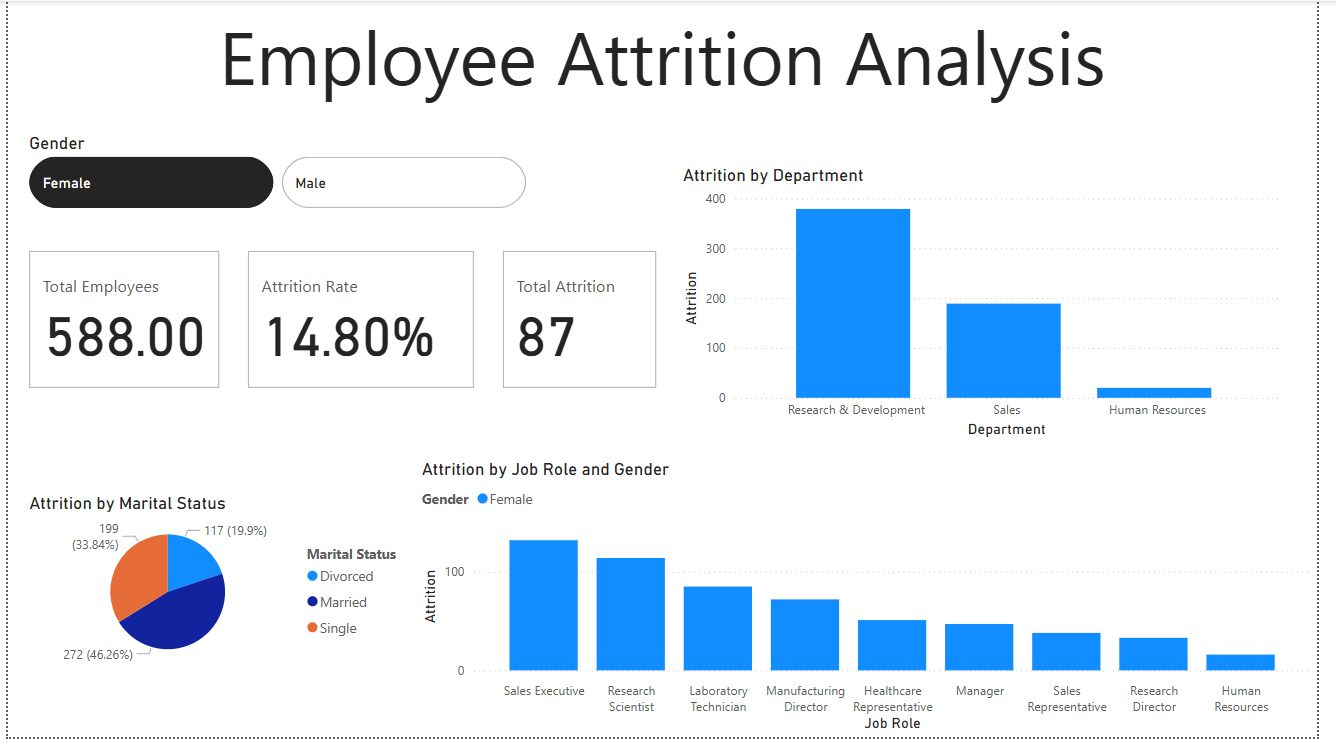

The page's visual inventory and layout, read from the dashboard file:
{"tool":"powerbi","page":{"name":"Employee Attrition Overview – IBM HR Analytics","canvas":[1280,720],"ordinal":0},"visuals":[{"type":"columnChart","title":"Attrition by Department","fields":{"Category":["WA_Fn-UseC_-HR-Employee-Attrition.Department"],"Y":["CountNonNull(WA_Fn-UseC_-HR-Employee-Attrition.Attrition)"]},"box":[656,160,592,272],"z":0},{"type":"cardVisual","fields":{"Data":["WA_Fn-UseC_-HR-Employee-Attrition.Total Attrition"]},"box":[479.5,240,160.5,144],"z":0,"group":"g4"},{"type":"cardVisual","fields":{"Data":["WA_Fn-UseC_-HR-Employee-Attrition.Attrition Rate"]},"box":[229.9,240,231.8,144],"z":1000,"group":"g4"},{"type":"columnChart","title":"Attrition by Job Role and Gender","fields":{"Category":["WA_Fn-UseC_-HR-Employee-Attrition.JobRole"],"Y":["CountNonNull(WA_Fn-UseC_-HR-Employee-Attrition.Attrition)"],"Series":["WA_Fn-UseC_-HR-Employee-Attrition.Gender"]},"box":[416,448,864,272],"z":1000},{"type":"cardVisual","fields":{"Data":["WA_Fn-UseC_-HR-Employee-Attrition.Total Employees"]},"box":[16,240,196.1,144],"z":2000,"group":"g4"},{"type":"pieChart","title":"Attrition by Marital Status","fields":{"Y":["CountNonNull(WA_Fn-UseC_-HR-Employee-Attrition.Attrition)"],"Series":["WA_Fn-UseC_-HR-Employee-Attrition.MaritalStatus"]},"box":[16,544,368,176],"z":2000},{"type":"group","id":"g1","title":"Group 1","box":[16,240,624,144],"z":3000},{"type":"group","id":"g2","title":"Group 2","box":[16,240,624,144],"z":3001,"group":"g1"},{"type":"group","id":"g3","title":"Group 3","box":[16,240,624,144],"z":3001,"group":"g2"},{"type":"group","id":"g4","title":"Group 4","box":[16,240,624,144],"z":3001,"group":"g3"},{"type":"textbox","box":[0,0,1280,112],"z":4000},{"type":"advancedSlicerVisual","fields":{"Values":["WA_Fn-UseC_-HR-Employee-Attrition.Gender"]},"box":[16,128,496,80],"z":5000}]}

Visuals, with their boxes in screenshot pixels (x1, y1, x2, y2), scaled from the page's 1280x720 canvas onto the 1336x745 screenshot:
"Attrition by Department" columnChart: 685,166,1303,447
cardVisual - WA_Fn-UseC_-HR-Employee-Attrition.Total Attrition: 500,248,668,397
cardVisual - WA_Fn-UseC_-HR-Employee-Attrition.Attrition Rate: 240,248,482,397
"Attrition by Job Role and Gender" columnChart: 434,464,1335,744
cardVisual - WA_Fn-UseC_-HR-Employee-Attrition.Total Employees: 17,248,221,397
"Attrition by Marital Status" pieChart: 17,563,401,744
"Group 1" group: 17,248,668,397
"Group 2" group: 17,248,668,397
"Group 3" group: 17,248,668,397
"Group 4" group: 17,248,668,397
textbox: 0,0,1335,116
advancedSlicerVisual - WA_Fn-UseC_-HR-Employee-Attrition.Gender: 17,132,534,215
